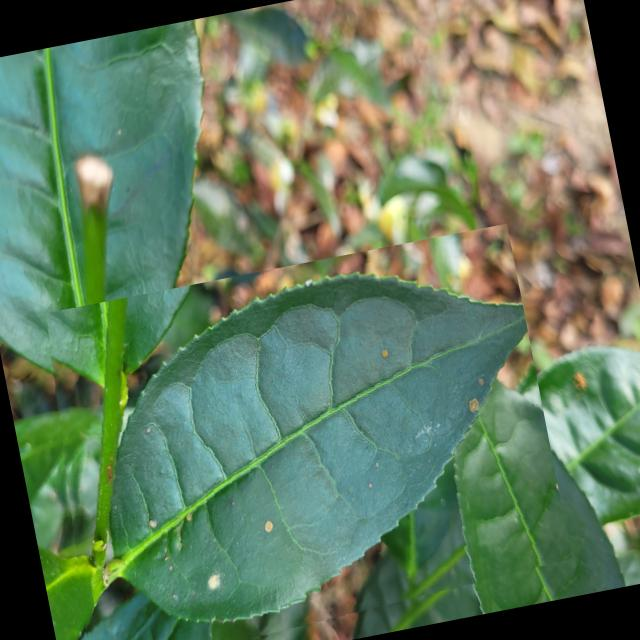Category D(7+ days, Not for Tea): (22, 222, 577, 640)
